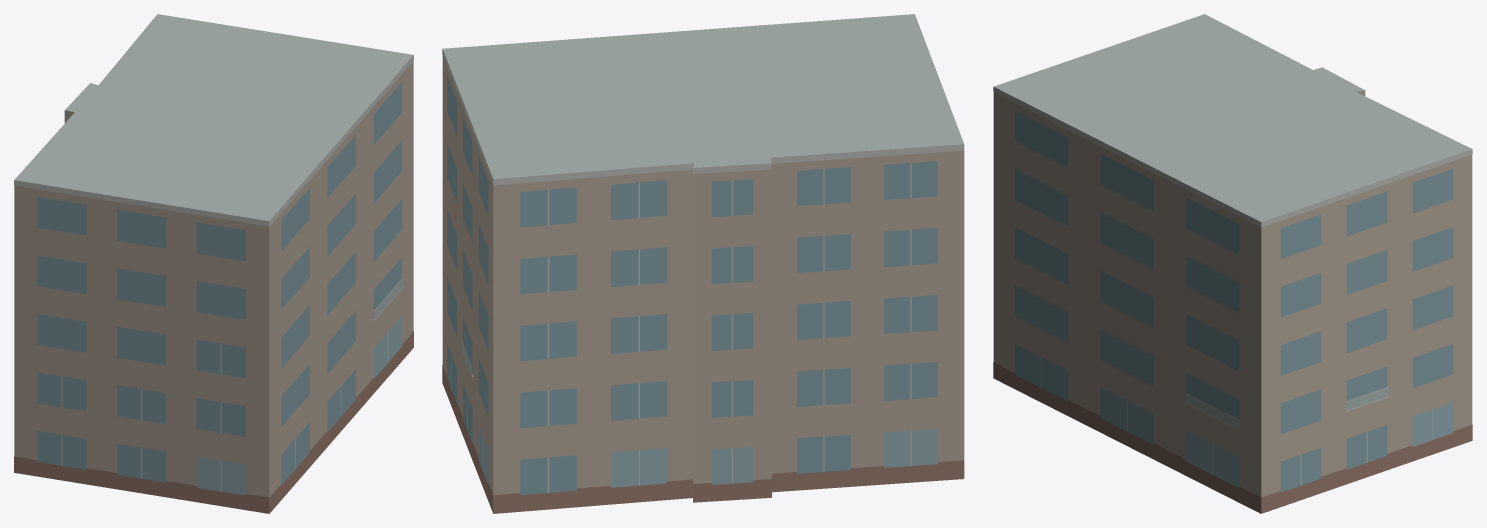
The model's file is survey-upis-32695188.glb.
The picture shows the model from 3 angles, left to right: view 1: azimuth 30°, elevation 25°; view 2: azimuth 150°, elevation 25°; view 3: azimuth 270°, elevation 25°; orthographic projection. The views are drawn at different scales.
Visible parts, largest first — view 1: survey-upis-32695188.tmp; view 2: survey-upis-32695188.tmp; view 3: survey-upis-32695188.tmp.
Part boxes in pixels (<box>): survey-upis-32695188.tmp: <box>14,14,413,513</box>; survey-upis-32695188.tmp: <box>442,14,964,513</box>; survey-upis-32695188.tmp: <box>993,14,1472,513</box>.
Size of the model in its own units: 20.09 by 13.12 by 19.53.
